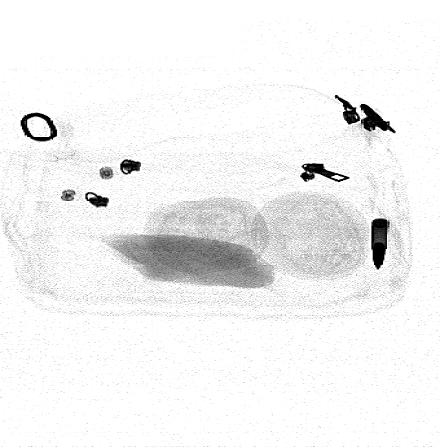Bullet: (370, 217, 391, 273)
